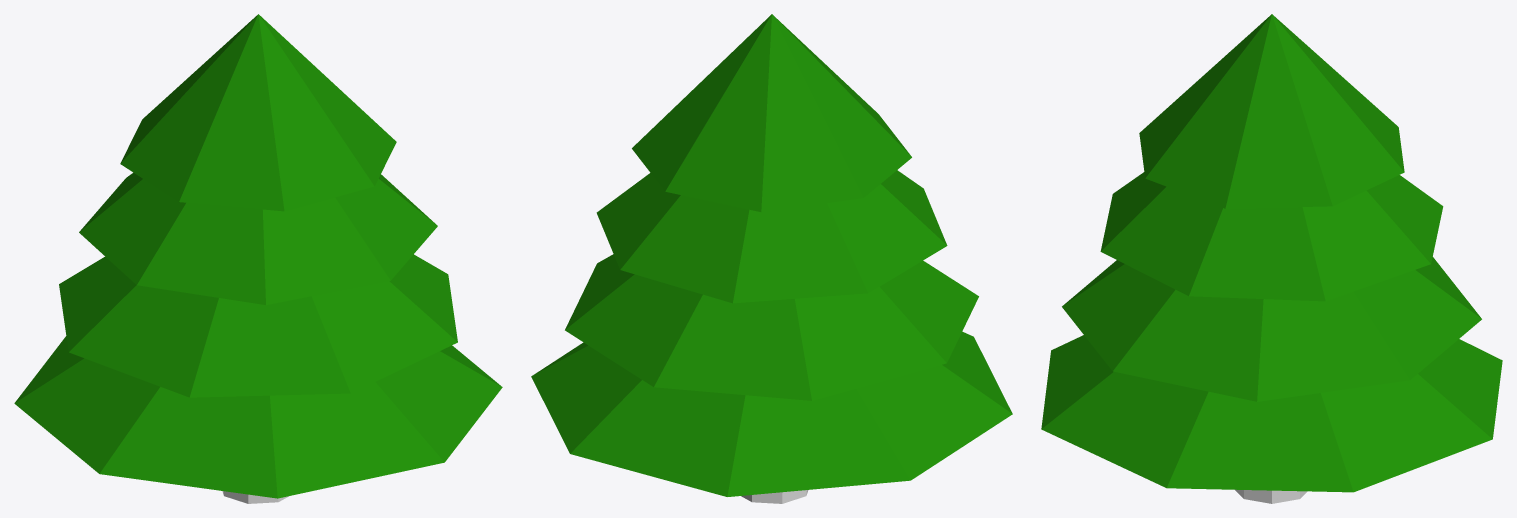
The model's file is tree.glb.
3 renders of one model, left to right at view 1: azimuth 30°, elevation 25°; view 2: azimuth 150°, elevation 25°; view 3: azimuth 270°, elevation 25°, orthographic.
Parts seen in each view (by area): view 1: Cone.001; view 2: Cone.001; view 3: Cone.001.
Boxes of the visible parts, x1,y1,x2,y2 form: Cone.001: [14, 14, 502, 503]; Cone.001: [531, 14, 1012, 503]; Cone.001: [1041, 14, 1502, 503].
Size of the model in its own units: 6.42 by 7.27 by 6.42.
